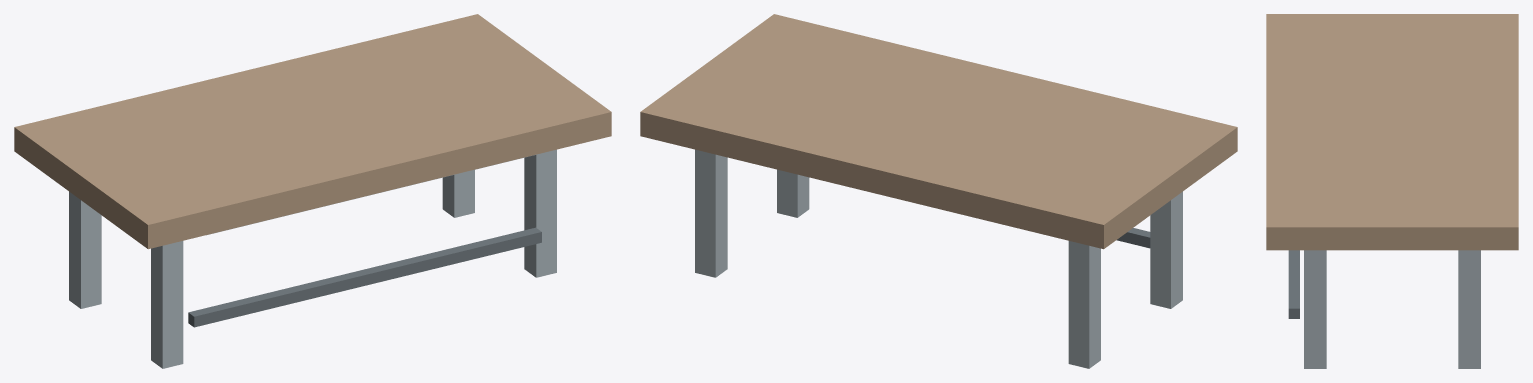
Rendered from desk_lod1.glb.
3 views of the same model, side by side, from view 1: azimuth 30°, elevation 25°; view 2: azimuth 150°, elevation 25°; view 3: azimuth 270°, elevation 25° (orthographic). The views are drawn at different scales.
Parts seen in each view (by area): view 1: desk-node-0, desk-node-5, desk-node-3, desk-node-4, desk-node-1, desk-node-2; view 2: desk-node-0, desk-node-1, desk-node-2, desk-node-3, desk-node-4; view 3: desk-node-0, desk-node-2, desk-node-4, desk-node-5.
Part boxes in pixels (bbox=[...]): desk-node-0: bbox=[14, 14, 611, 249]; desk-node-5: bbox=[188, 227, 541, 327]; desk-node-3: bbox=[151, 241, 183, 368]; desk-node-4: bbox=[524, 149, 556, 277]; desk-node-1: bbox=[69, 191, 101, 308]; desk-node-2: bbox=[442, 170, 474, 217]; desk-node-0: bbox=[640, 14, 1237, 249]; desk-node-1: bbox=[1068, 241, 1100, 368]; desk-node-2: bbox=[695, 149, 727, 277]; desk-node-3: bbox=[1150, 191, 1182, 308]; desk-node-4: bbox=[777, 169, 809, 217]; desk-node-0: bbox=[1266, 14, 1518, 250]; desk-node-2: bbox=[1458, 250, 1480, 368]; desk-node-4: bbox=[1304, 250, 1326, 368]; desk-node-5: bbox=[1288, 250, 1299, 318].
Size of the model in its own units: 3.6 by 1.24 by 1.8.
